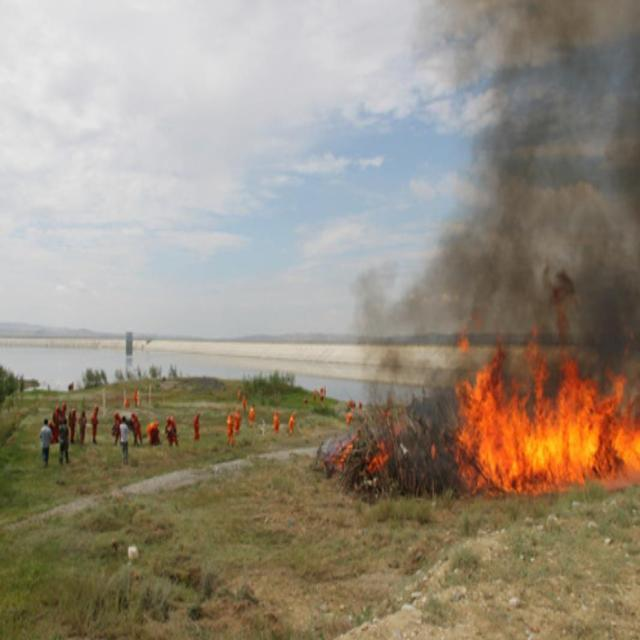fire: (443, 286, 630, 498), (342, 416, 413, 496)
other: (43, 389, 204, 444), (216, 371, 296, 452), (308, 369, 360, 424)
smoke: (386, 12, 632, 381)
